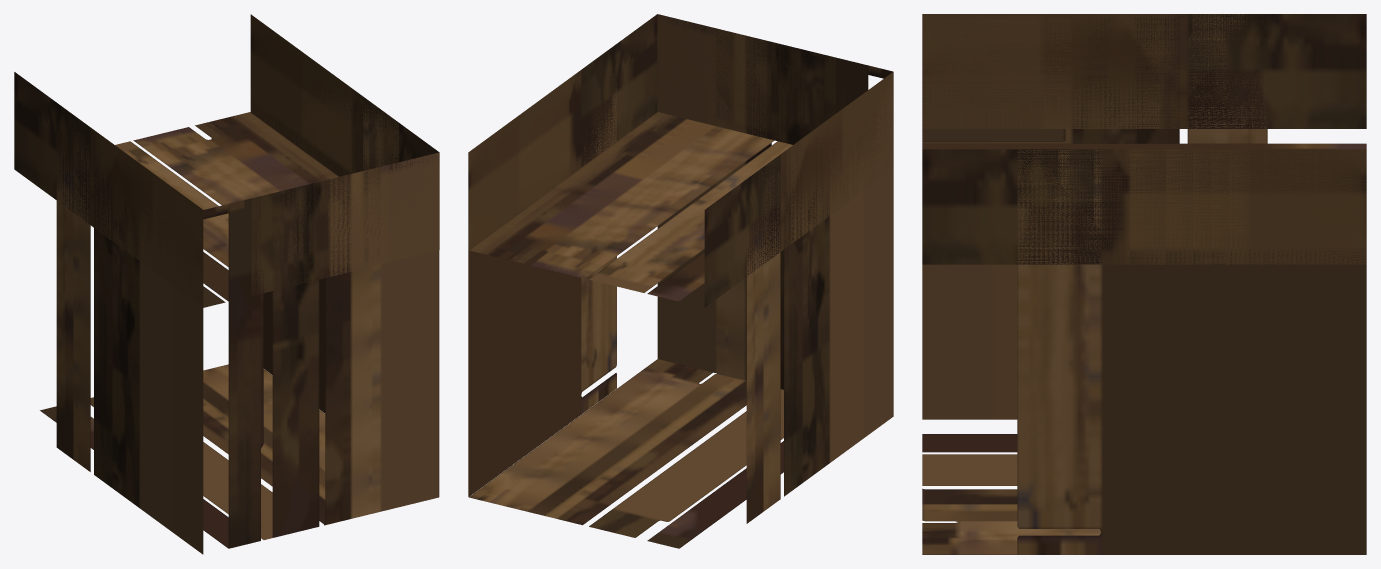
Rendered from section-3.obj.
3 views of the same model, side by side, from view 1: azimuth 30°, elevation 25°; view 2: azimuth 150°, elevation 25°; view 3: azimuth 270°, elevation 25° (orthographic). The views are drawn at different scales.
Bounding box in the file's own units: 0.6972 × 0.9735 × 0.967.
